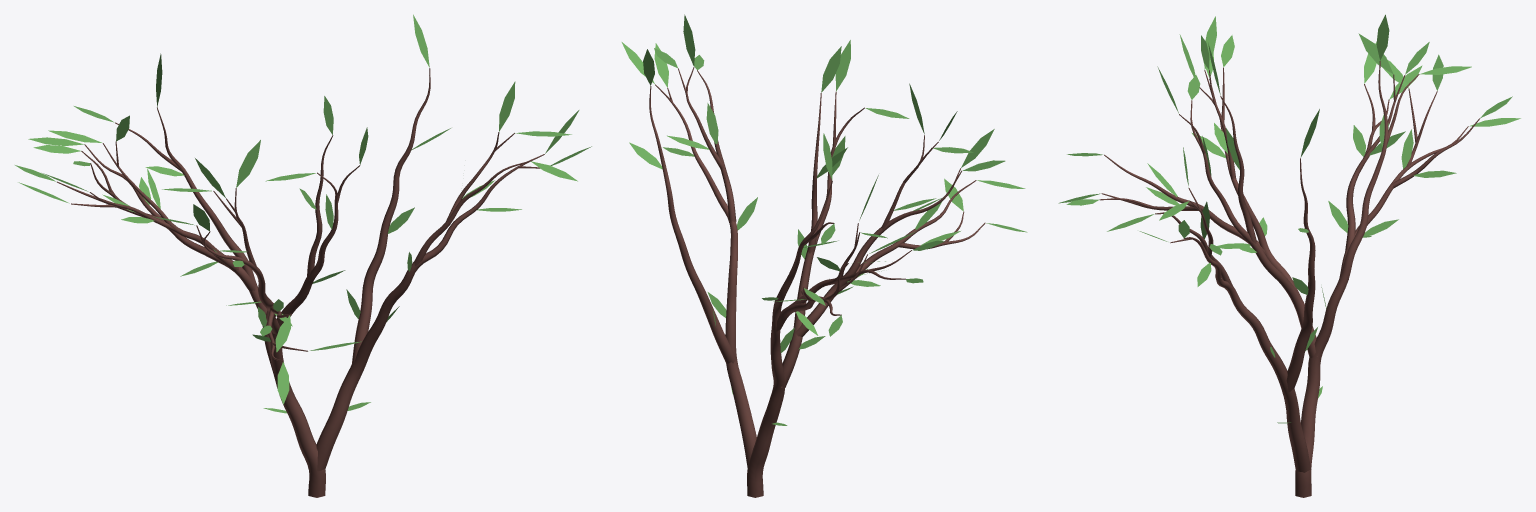
Rendered from tree-0.gltf.
3 views of the same model, side by side, from view 1: azimuth 30°, elevation 25°; view 2: azimuth 150°, elevation 25°; view 3: azimuth 270°, elevation 25° (orthographic). The views are drawn at different scales.
Parts seen in each view (by area): view 1: tree-0; view 2: tree-0; view 3: tree-0.
Boxes of the visible parts, x1,y1,x2,y2 form: tree-0: [15, 14, 591, 497]; tree-0: [621, 14, 1027, 497]; tree-0: [1058, 14, 1520, 497].
Size of the model in its own units: 1.5 by 1.46 by 1.41.
Materials: 2 (1 with a texture image).
